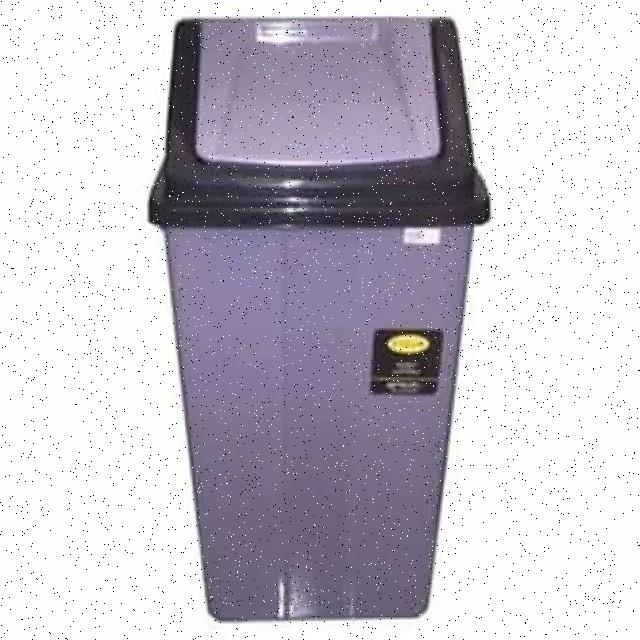garbage container: (91, 5, 573, 625)
